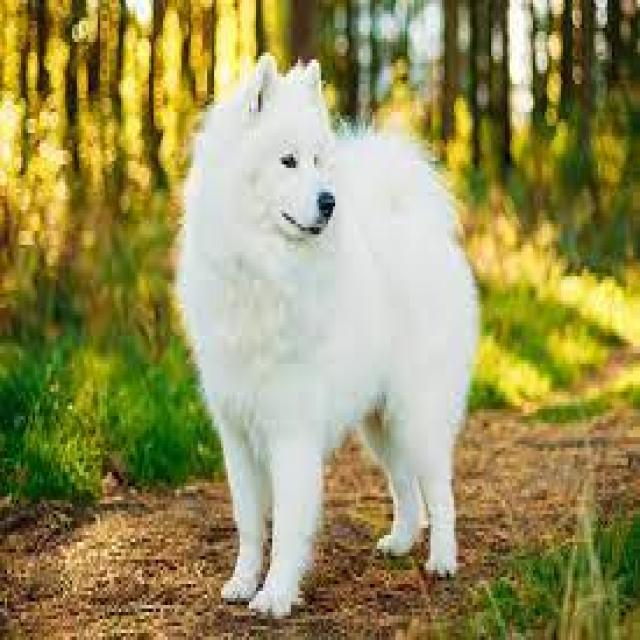Dog: (172, 46, 484, 622)
